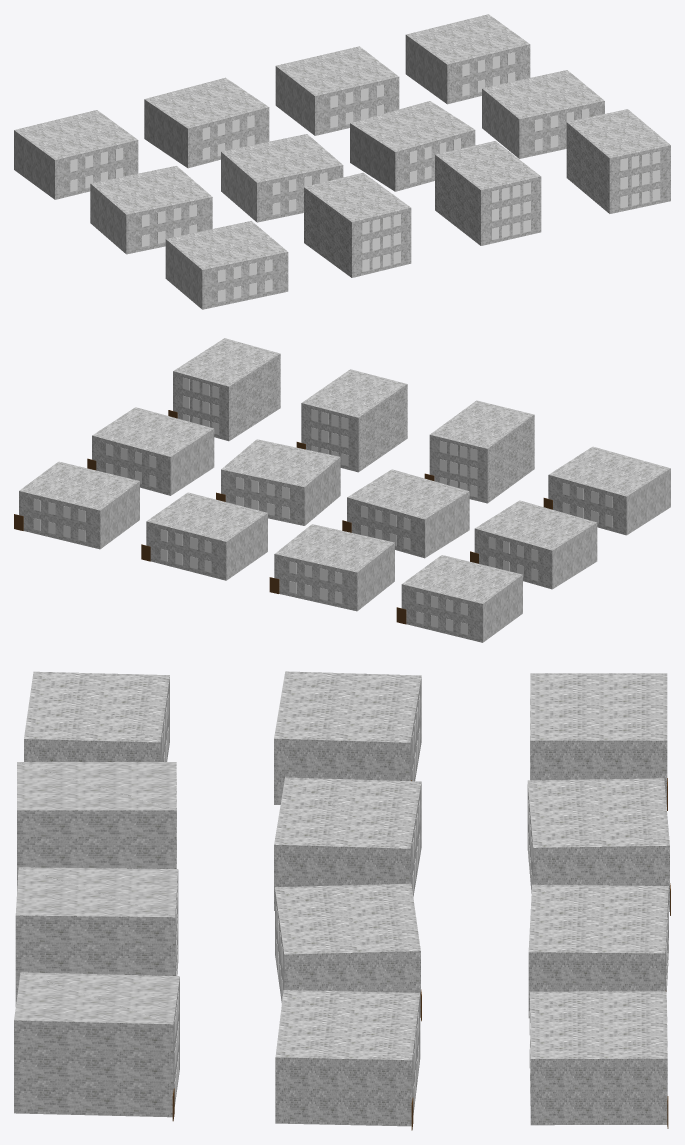
The model's file is bld_mlmqwulx_eatca0r.glb.
3 views of the same model, one above another, from view 1: azimuth 30°, elevation 25°; view 2: azimuth 150°, elevation 25°; view 3: azimuth 270°, elevation 25° (orthographic). The views are drawn at different scales.
Parts seen in each view (by area): view 1: building-building-1771099443207-12, building-building-1771099443207-13, building-building-1771099443207-14, building-building-1771099443207-11, building-building-1771099443206-2, building-building-1771099443206-4, building-building-1771099443206-1, building-building-1771099443206-3, building-building-1771099443207-6, building-building-1771099443207-8, building-building-1771099443207-9, building-building-1771099443207-7; view 2: building-building-1771099443207-14, building-building-1771099443207-13, building-building-1771099443206-3, building-building-1771099443206-4, building-building-1771099443206-1, building-building-1771099443206-2, building-building-1771099443207-12, building-building-1771099443207-6, building-building-1771099443207-7, building-building-1771099443207-11, building-building-1771099443207-9, building-building-1771099443207-8; view 3: building-building-1771099443207-14, building-building-1771099443207-9, building-building-1771099443206-4, building-building-1771099443207-13, building-building-1771099443207-12, building-building-1771099443207-6, building-building-1771099443207-8, building-building-1771099443207-7, building-building-1771099443206-2, building-building-1771099443206-3, building-building-1771099443206-1, building-building-1771099443207-11.
Part boxes in pixels (x1,y1,x2,y2): building-building-1771099443207-12: (304,172,411,277); building-building-1771099443207-13: (435,141,541,245); building-building-1771099443207-14: (566,109,670,213); building-building-1771099443207-11: (165,221,288,309); building-building-1771099443206-2: (144,77,269,168); building-building-1771099443206-4: (405,14,530,104); building-building-1771099443206-1: (14,110,138,199); building-building-1771099443206-3: (275,46,399,135); building-building-1771099443207-6: (90,166,212,254); building-building-1771099443207-8: (350,101,475,191); building-building-1771099443207-9: (482,70,604,158); building-building-1771099443207-7: (221,134,343,222); building-building-1771099443207-14: (168,338,280,441); building-building-1771099443207-13: (296,369,407,472); building-building-1771099443206-3: (141,492,267,580); building-building-1771099443206-4: (14,461,139,549); building-building-1771099443206-1: (396,555,522,642); building-building-1771099443206-2: (269,524,394,611); building-building-1771099443207-12: (424,400,534,503); building-building-1771099443207-6: (470,500,597,589); building-building-1771099443207-7: (342,469,469,558); building-building-1771099443207-11: (543,446,670,535); building-building-1771099443207-9: (87,407,214,495); building-building-1771099443207-8: (216,439,340,525); building-building-1771099443207-14: (14,972,179,1121); building-building-1771099443207-9: (275,990,420,1130); building-building-1771099443206-4: (530,991,668,1128); building-building-1771099443207-13: (15,867,178,1006); building-building-1771099443207-12: (17,762,176,890); building-building-1771099443207-6: (274,671,421,804); building-building-1771099443207-8: (275,883,421,1021); building-building-1771099443207-7: (274,777,421,910); building-building-1771099443206-2: (527,778,670,915); building-building-1771099443206-3: (528,884,668,1018); building-building-1771099443206-1: (530,673,667,810); building-building-1771099443207-11: (24,671,169,761).
Bounding box in the file's own units: 81.5 × 9.03 × 57.61.
60 materials, 12 textured.
